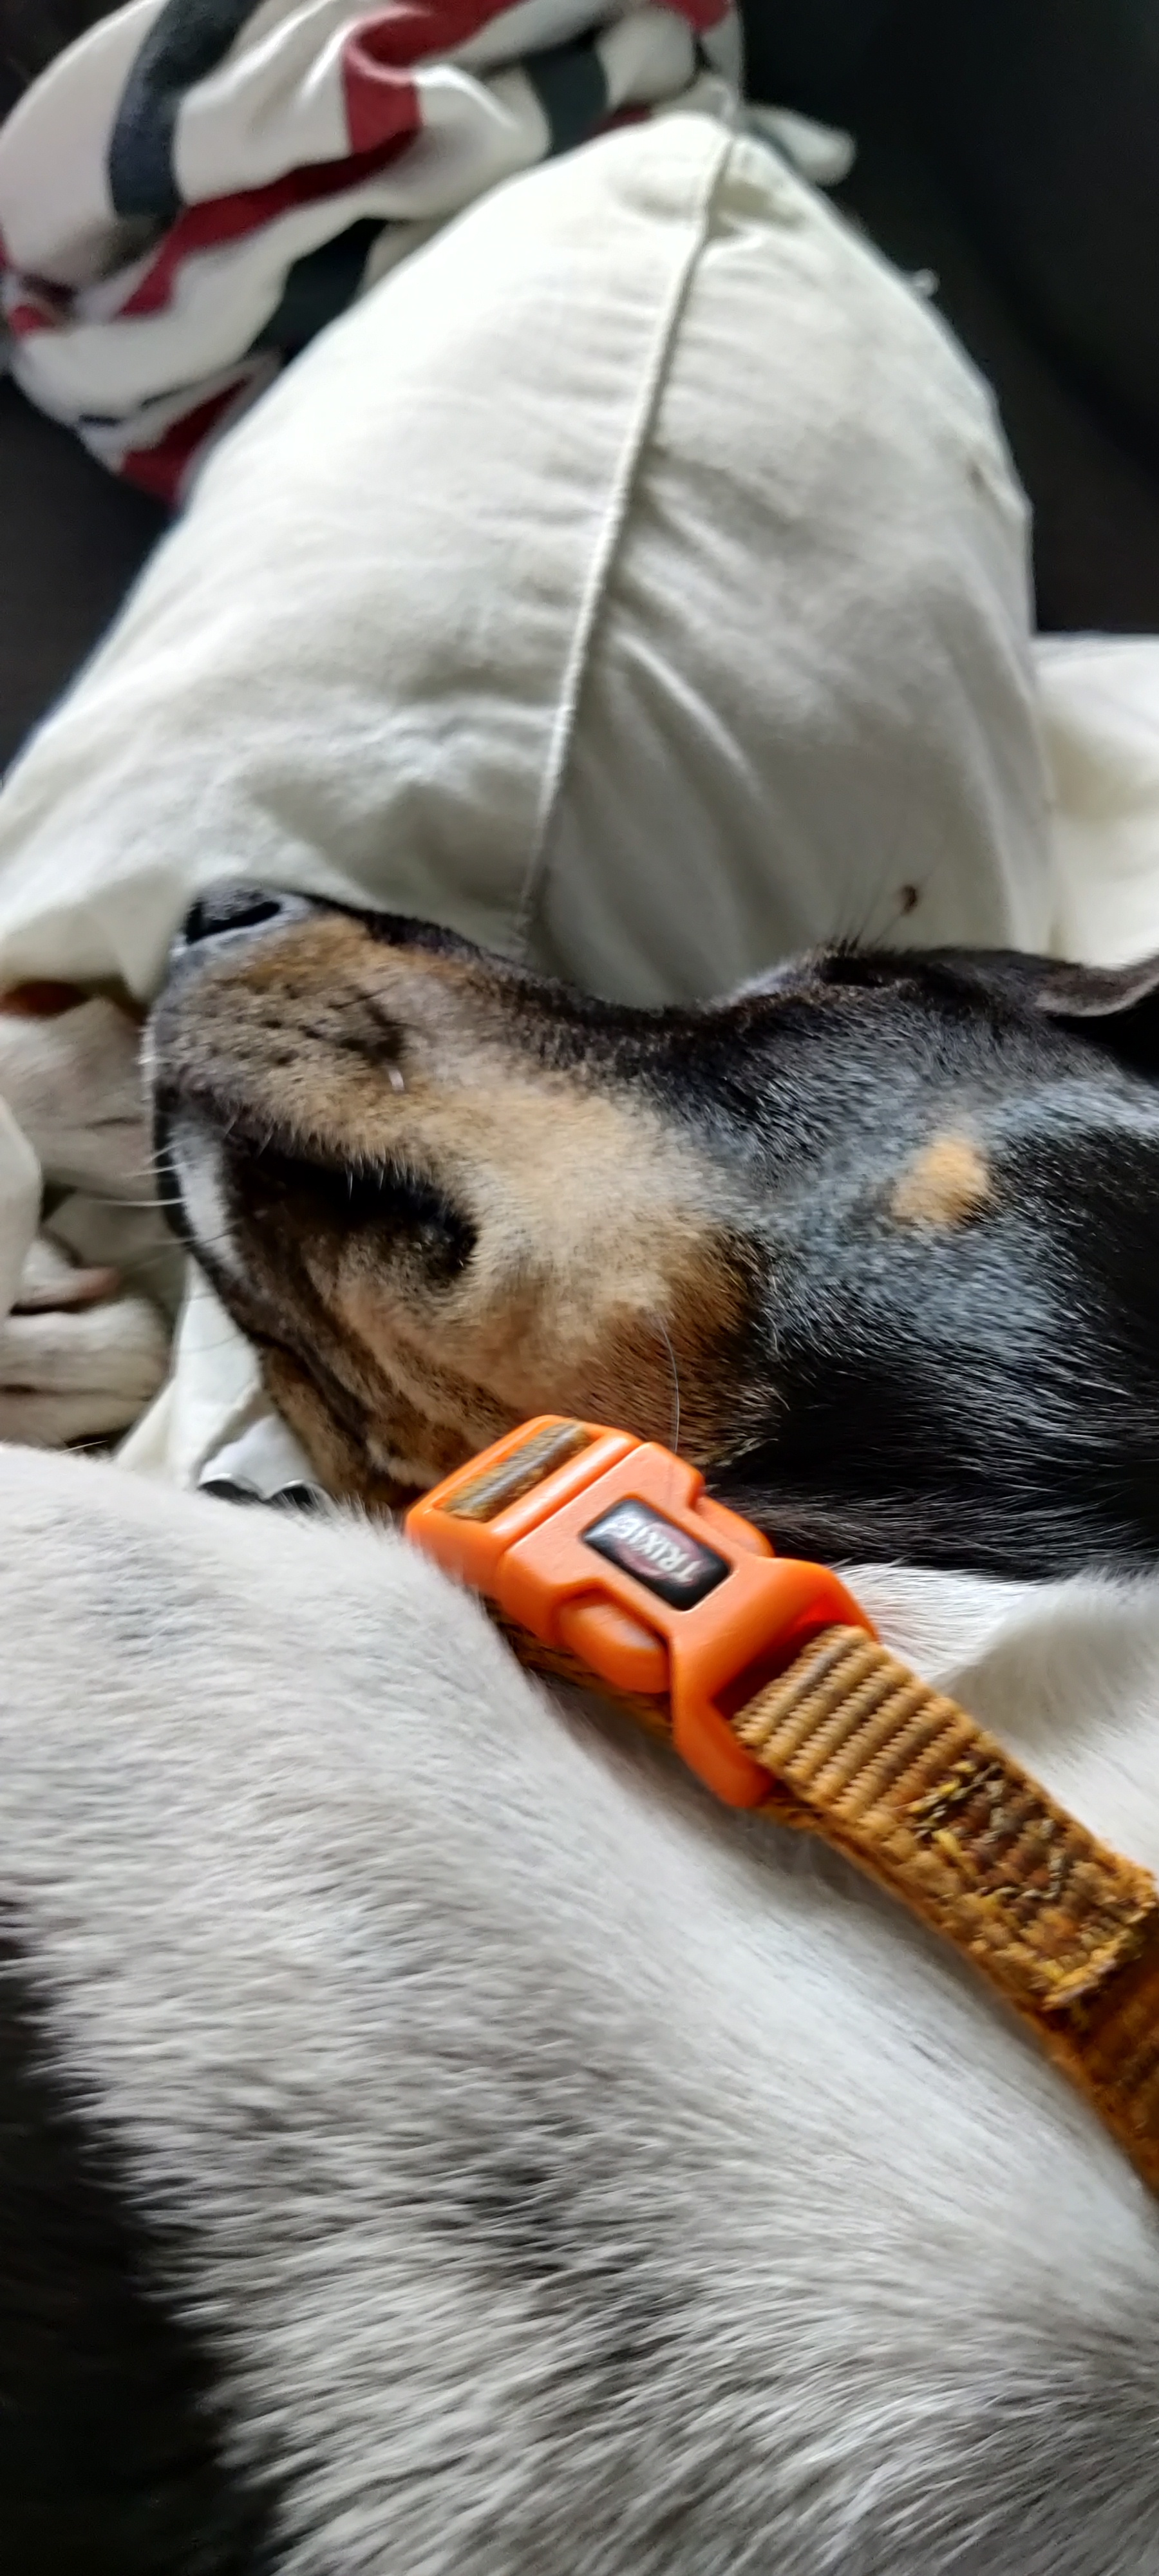Dog: (0, 858, 1159, 2576)
